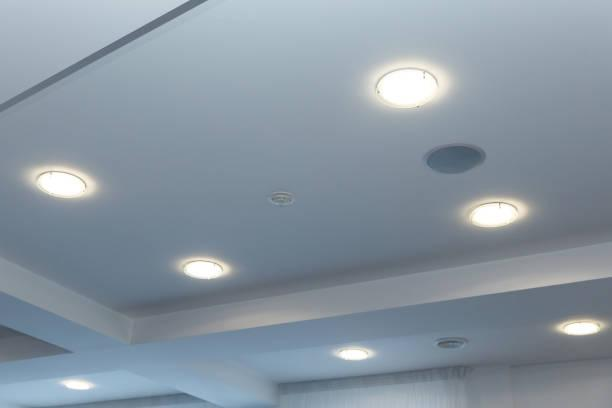light: (370, 53, 446, 119), (30, 160, 98, 211), (426, 141, 492, 182), (176, 252, 234, 288), (468, 198, 528, 232), (553, 314, 612, 343), (332, 342, 380, 365), (264, 185, 301, 210), (57, 374, 99, 395), (435, 332, 471, 354)
